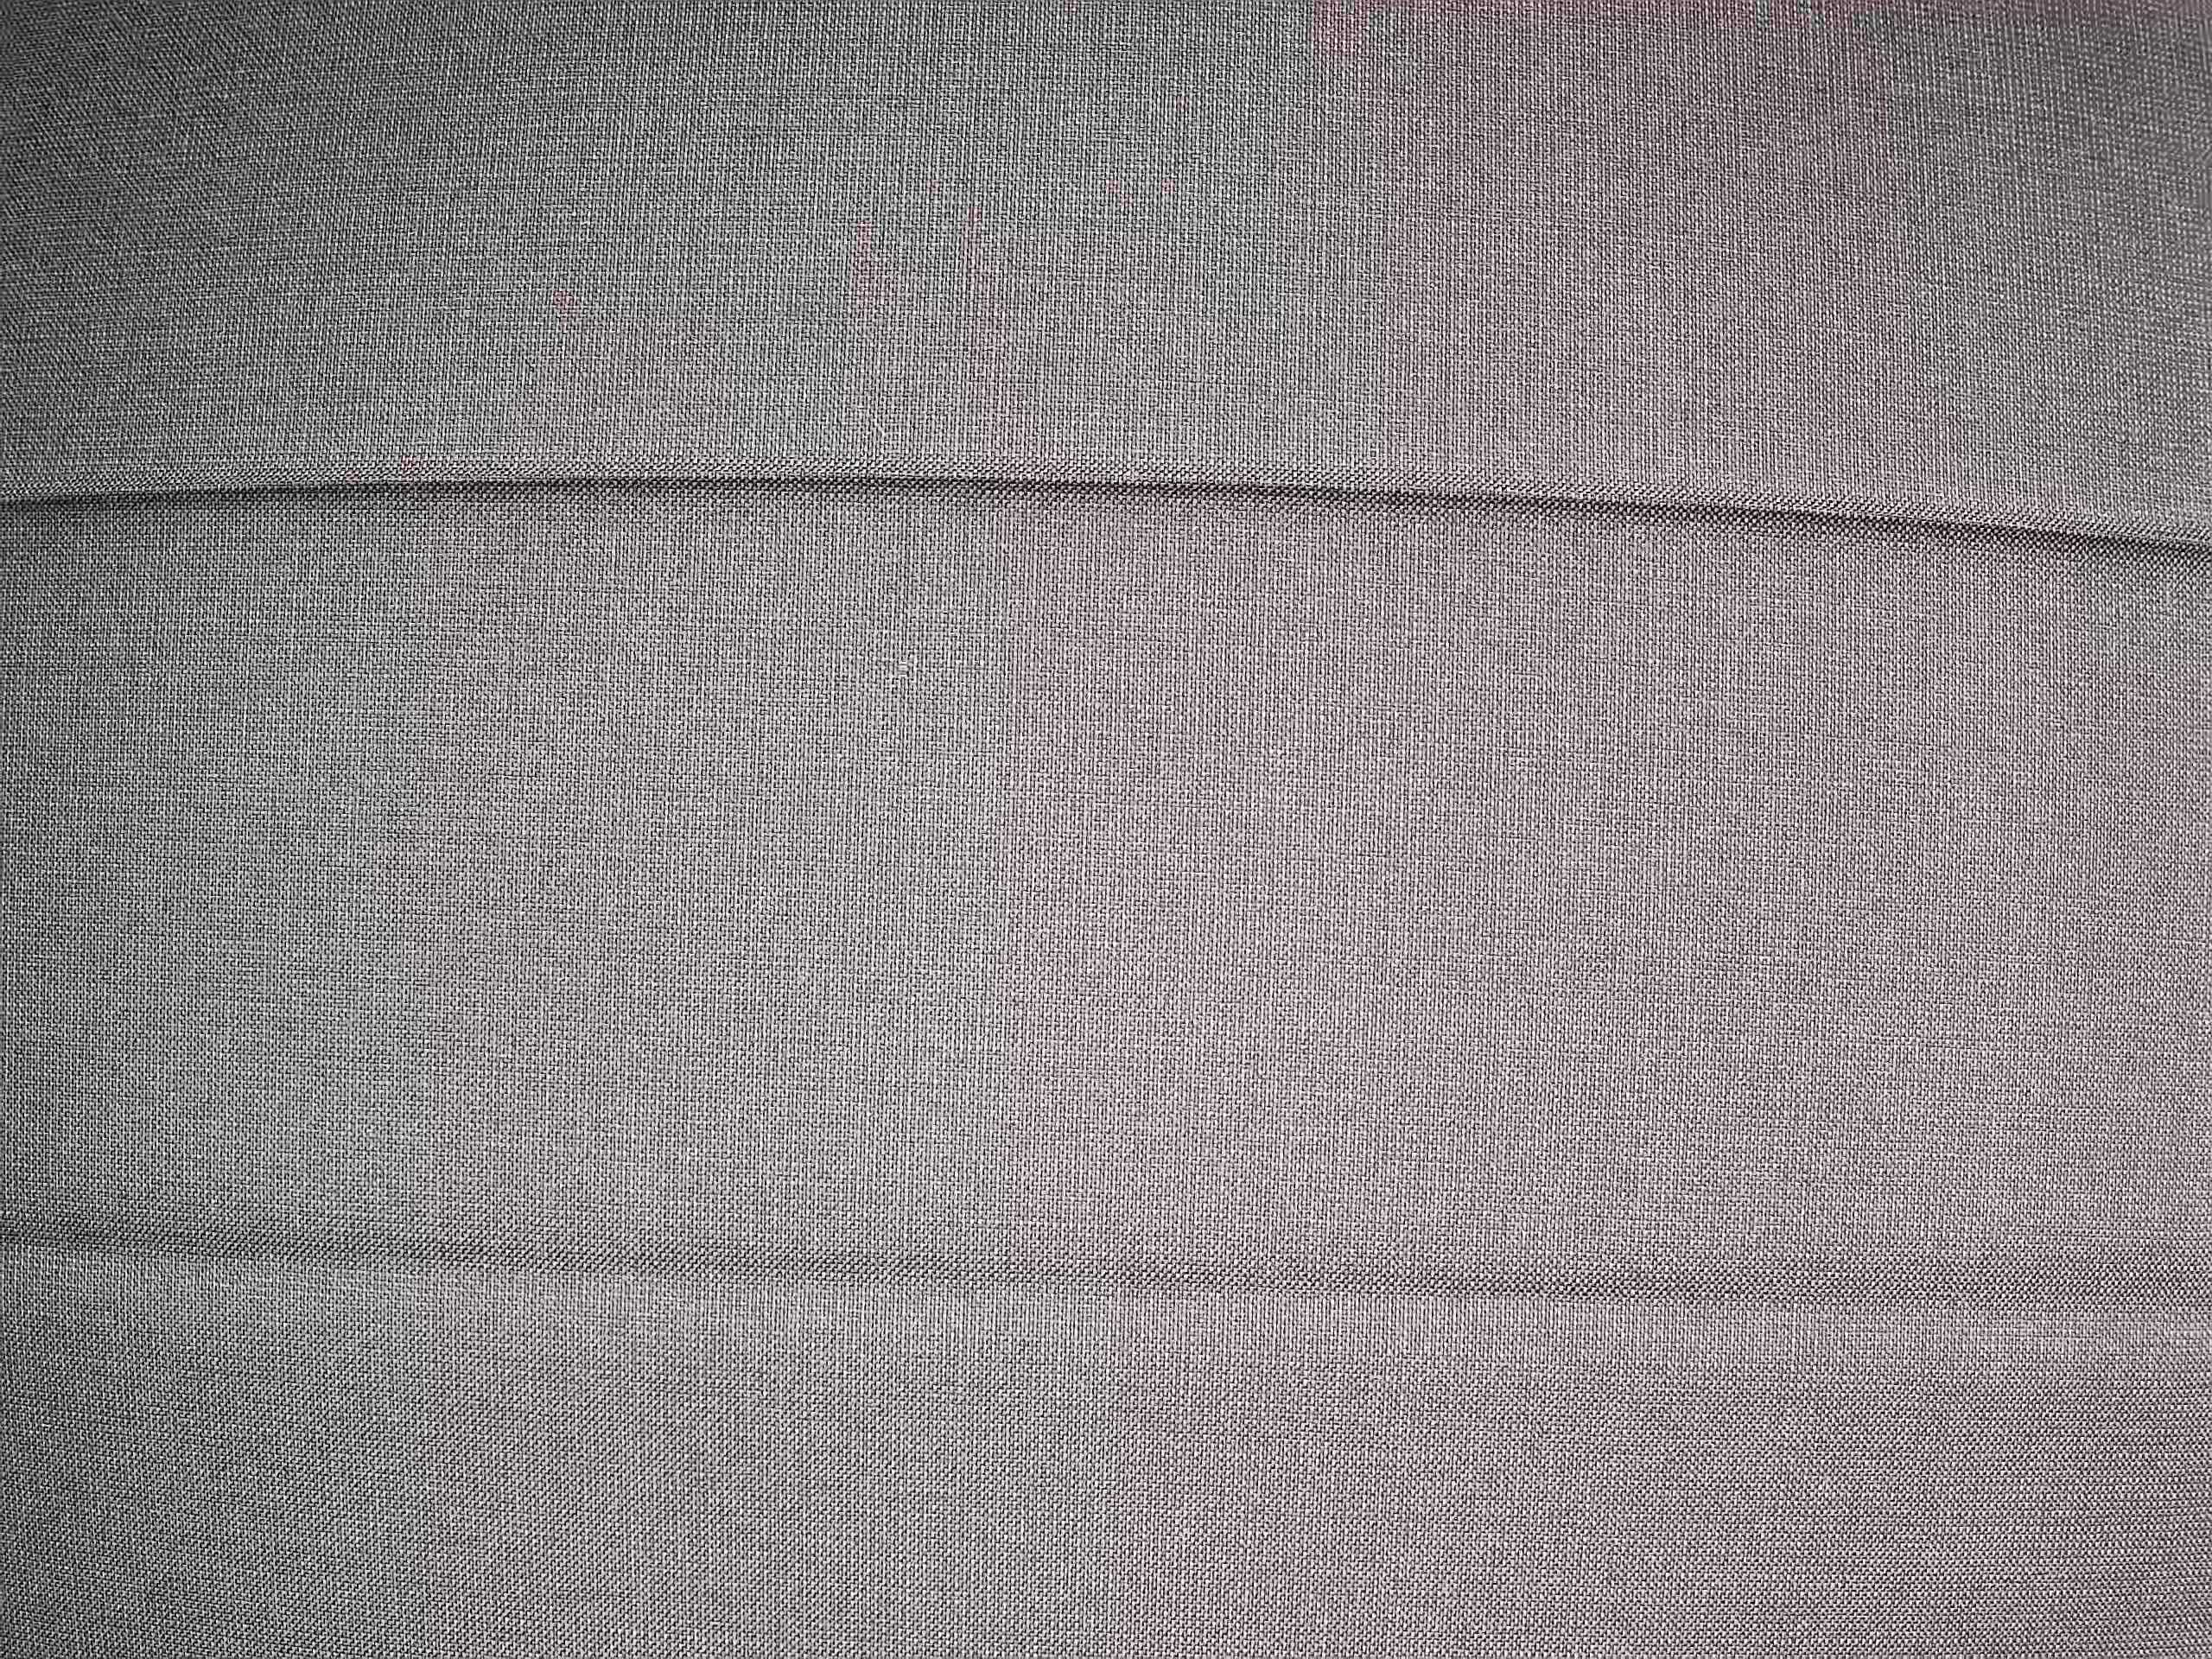jumps: (841, 615, 951, 732)
